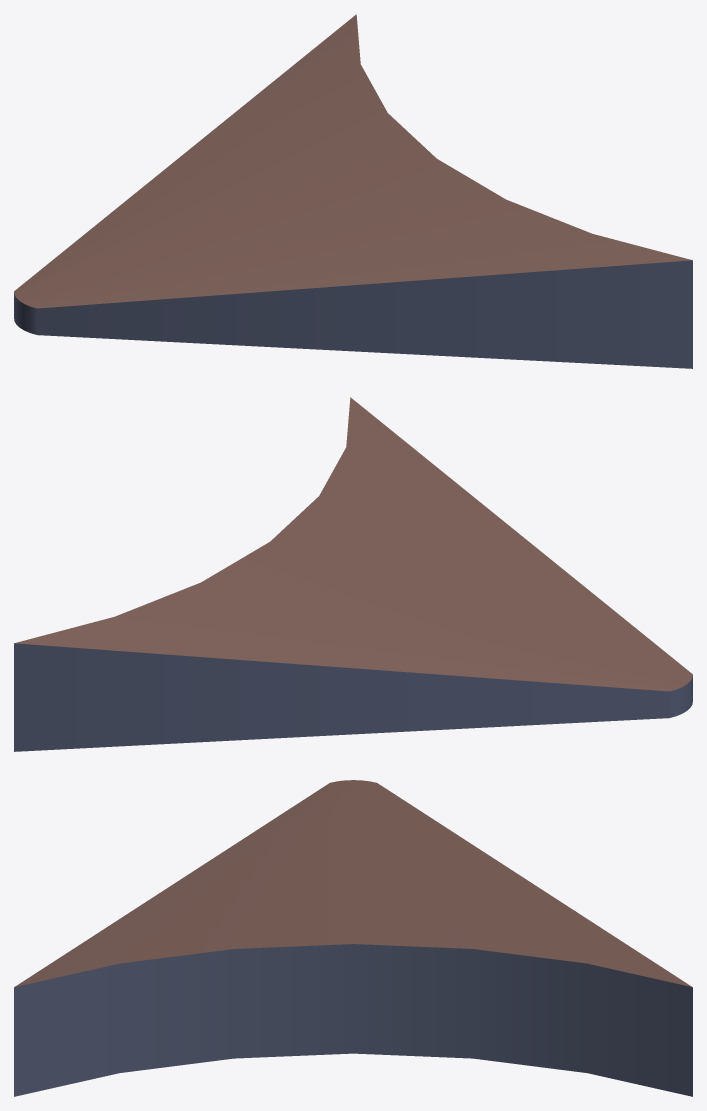
File: Arrow_s_teleport.fbx
3 renders of one model, top to bottom at view 1: azimuth 30°, elevation 25°; view 2: azimuth 150°, elevation 25°; view 3: azimuth 270°, elevation 25°, orthographic.
Visible parts, largest first — view 1: Arrow_s_teleport; view 2: Arrow_s_teleport; view 3: Arrow_s_teleport.
Part boxes in pixels (x1,y1,x2,y2): Arrow_s_teleport: (14, 14, 692, 368); Arrow_s_teleport: (14, 397, 692, 751); Arrow_s_teleport: (14, 780, 692, 1096).
Bounding box in the file's own units: 23.59 × 4.85 × 27.22.
